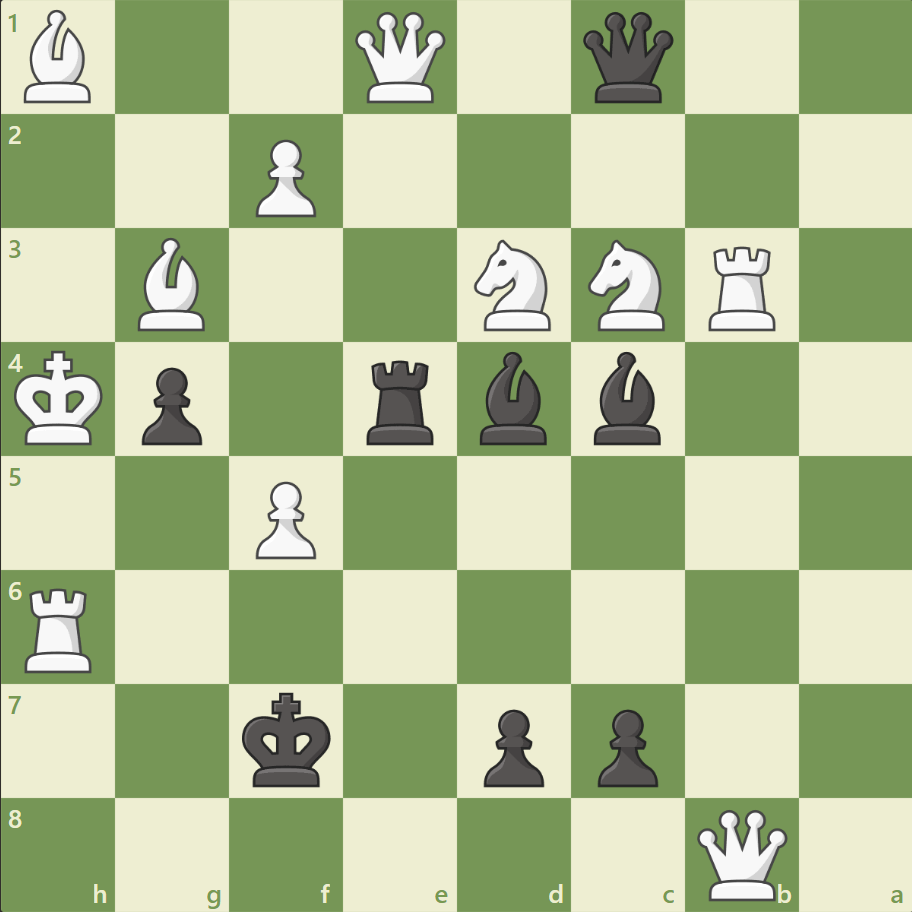B: (131, 233, 215, 336), (17, 6, 101, 109)
K: (11, 344, 111, 452)
N: (579, 234, 676, 337), (465, 234, 562, 337)
P: (247, 473, 322, 564), (247, 132, 322, 223)
Q: (691, 804, 790, 903), (351, 9, 450, 108)
R: (19, 579, 102, 676), (700, 239, 783, 336)
b: (585, 347, 669, 449), (471, 347, 555, 449)
k: (238, 685, 338, 793)
p: (474, 700, 549, 791), (133, 359, 208, 450), (588, 700, 662, 791)
q: (578, 9, 677, 108)
r: (360, 352, 442, 449)
